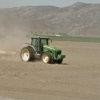Tractor: (21, 30, 66, 71)
